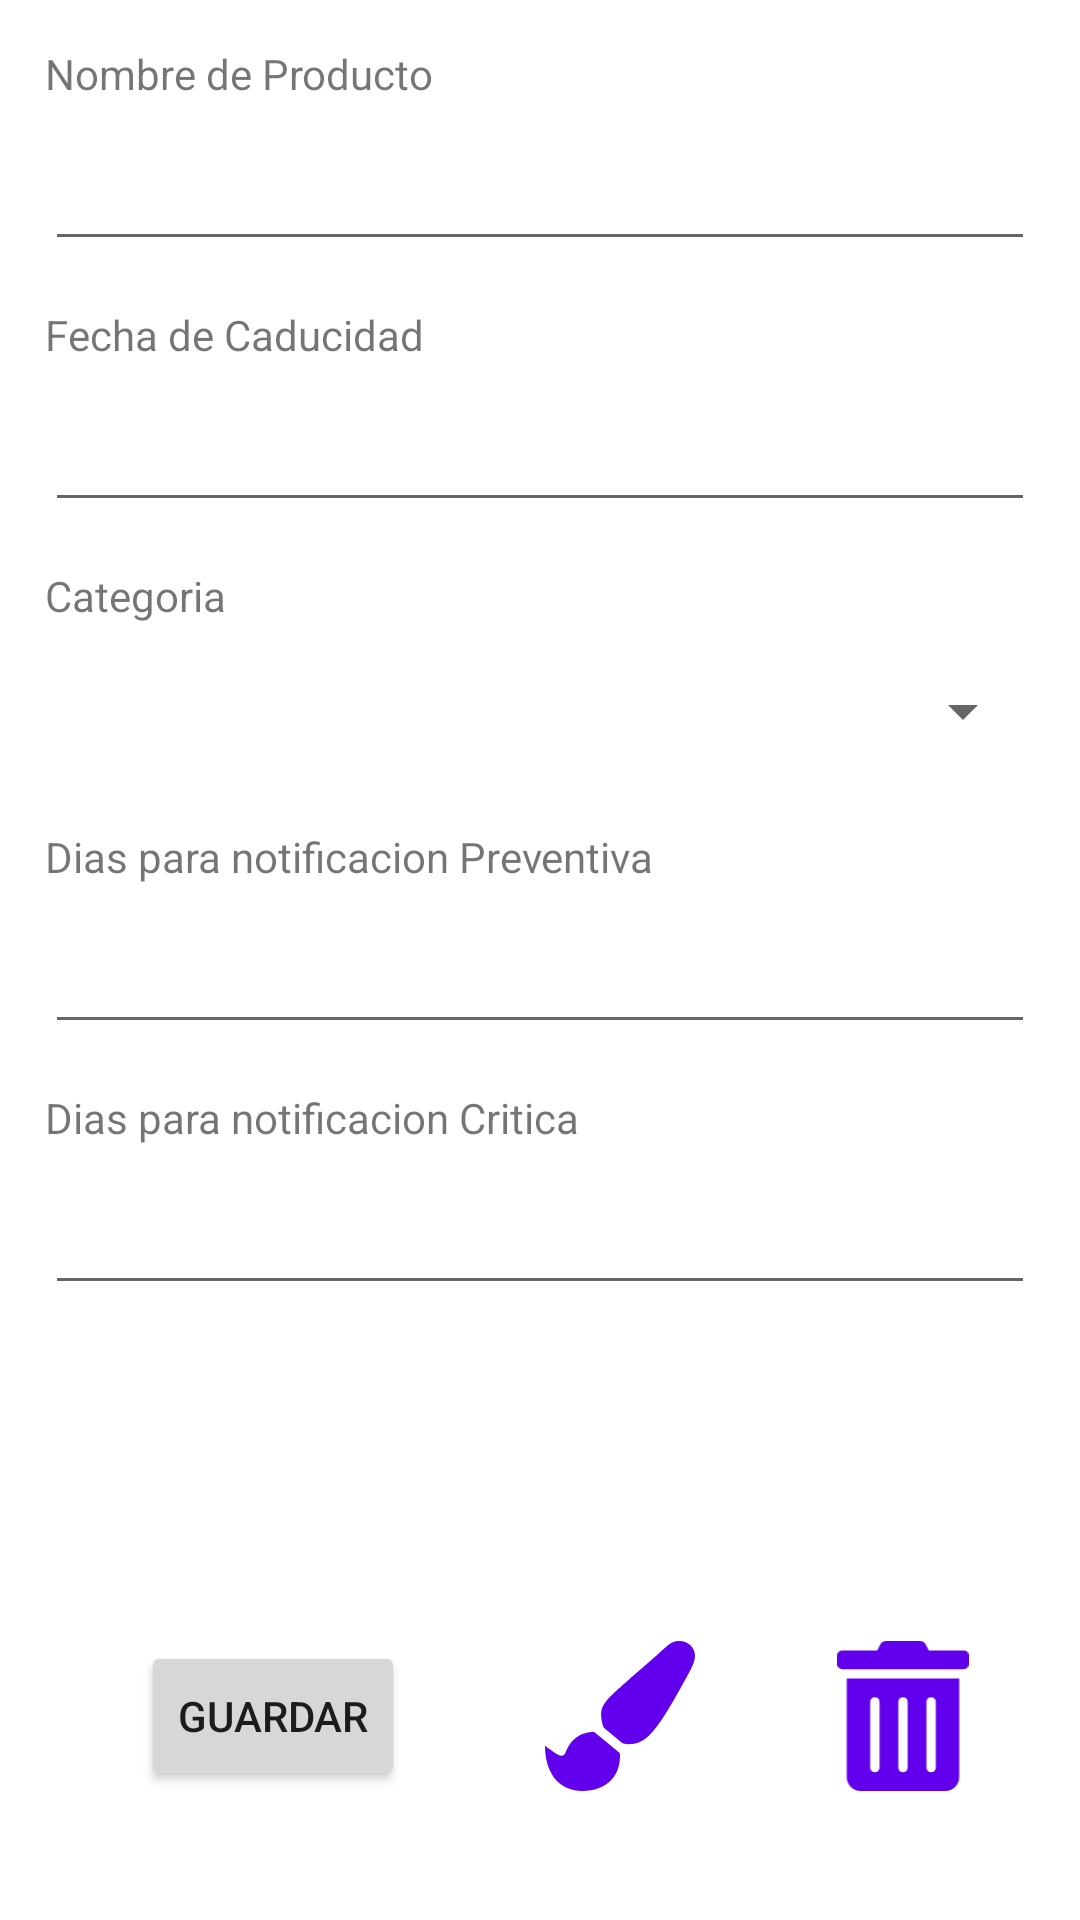

Icon bounding boxes for this 1080px x 1920px phone screenshot, format (x1, y1, x2, y2):
paint brush: (545, 1641, 695, 1791)
trash: (837, 1641, 969, 1791)
